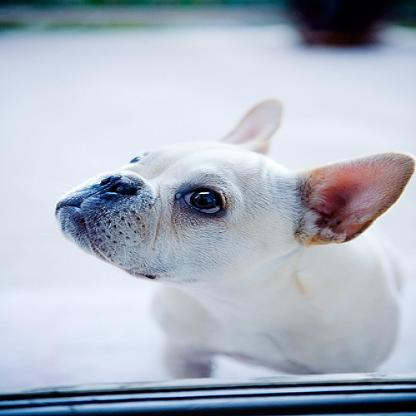French_bulldog: (55, 97, 412, 382)
